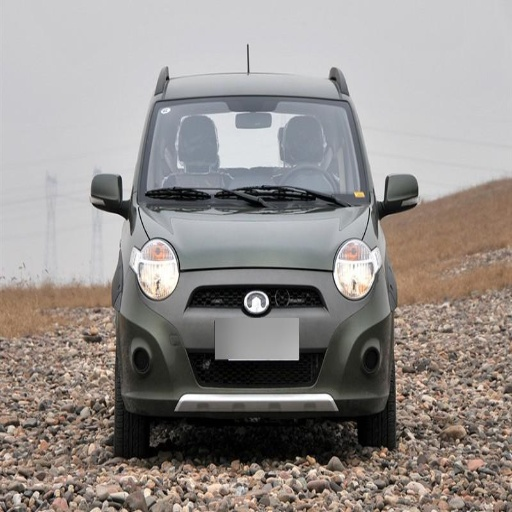front_bumper: (121, 270, 386, 416)
front_right_light: (130, 243, 178, 299)
hood: (140, 206, 368, 270)
left_mirror: (377, 173, 420, 217)
